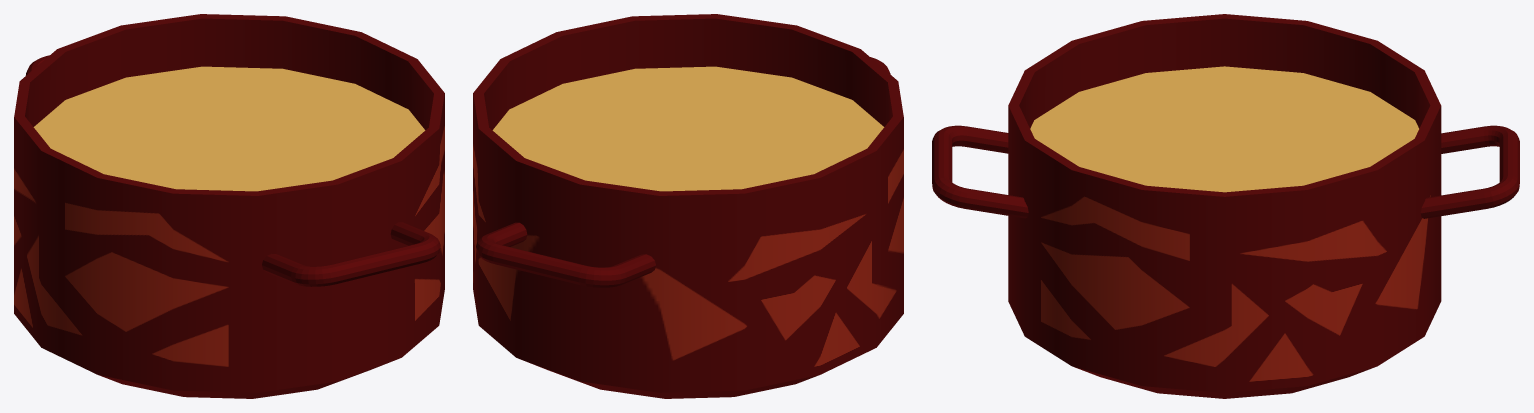
File: PRMC_Olla_roja.FBX
3 renders of one model, left to right at view 1: azimuth 30°, elevation 25°; view 2: azimuth 150°, elevation 25°; view 3: azimuth 270°, elevation 25°, orthographic.
Parts seen in each view (by area): view 1: PRMC_Olla02_roja; view 2: PRMC_Olla02_roja; view 3: PRMC_Olla02_roja.
Part boxes in pixels (box(x1,y1,x2,y2)): PRMC_Olla02_roja: box(14, 14, 444, 398); PRMC_Olla02_roja: box(473, 14, 903, 398); PRMC_Olla02_roja: box(932, 14, 1519, 398).
Bounding box in the file's own units: 1.02 × 0.5702 × 1.39.
